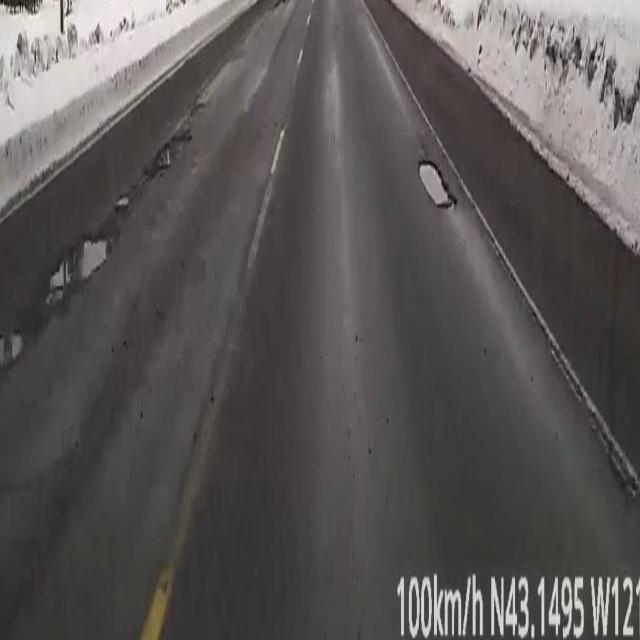pothole: (418, 160, 456, 210), (0, 334, 21, 364)
